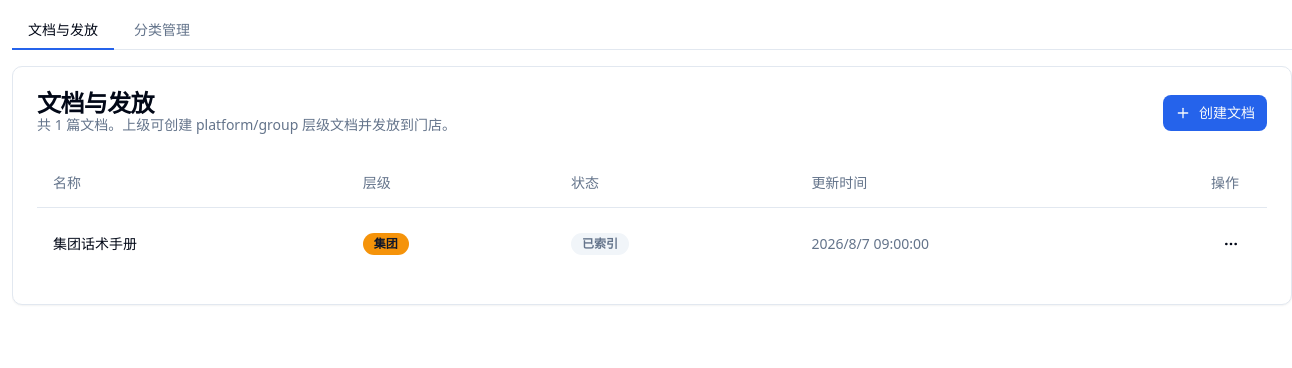
Scenario: AdminPanel 行操作「下发/管理下发」(admin-ui slice 03 F5) › group_admin:文档行有操作菜单,点开见「下发」「管理下发」
Click the button named "文档操作". click: (1231, 244)
box: top-left (1211, 224), bottom-right (1251, 264)
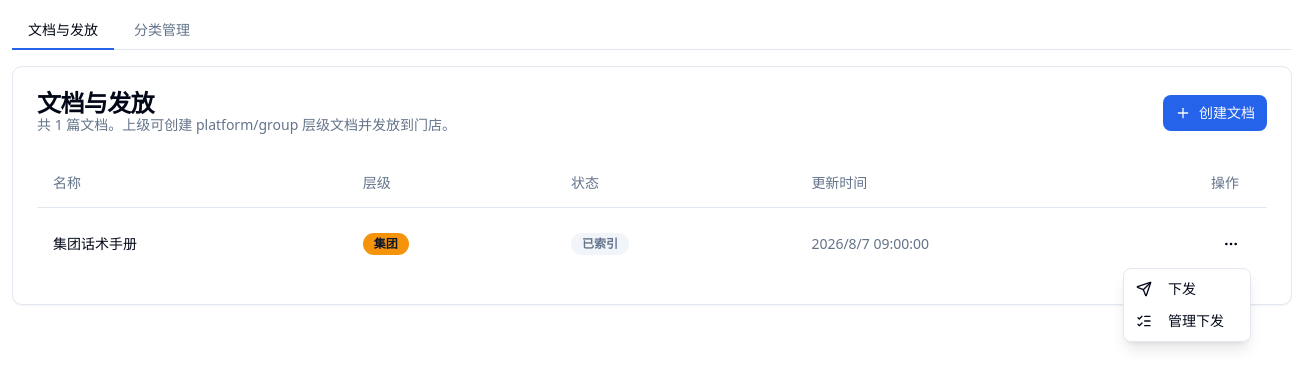
expect the menu item "下发" is shown: met, box top-left (1136, 279), bottom-right (1196, 298)
expect the menu item "管理下发" is shown: met, box top-left (1136, 311), bottom-right (1224, 330)
